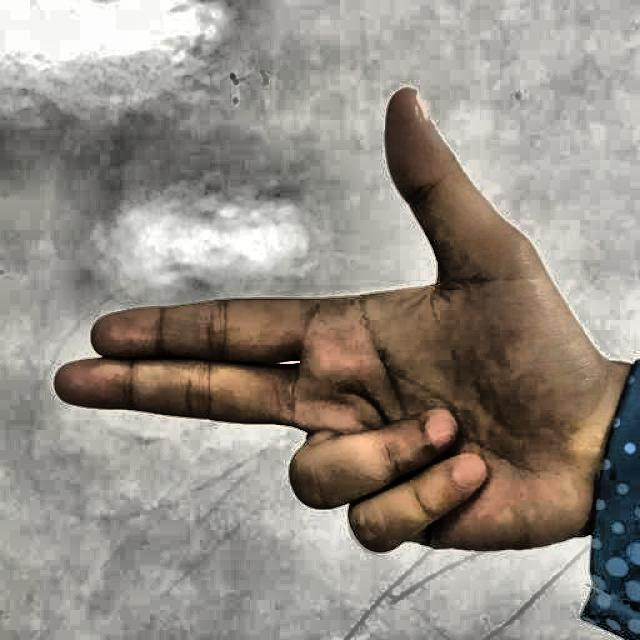Jha: (40, 70, 600, 623)
